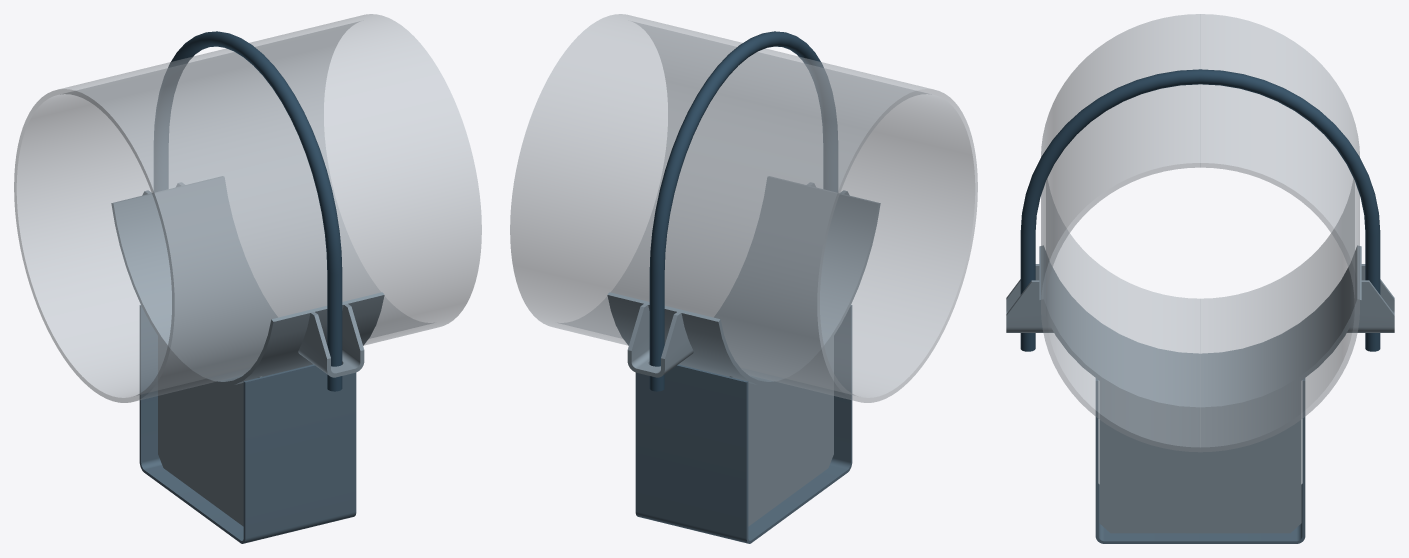
Rendered from TS-626.00.000-026-opora-dn426-H200-L170.glb.
3 renders of one model, left to right at view 1: azimuth 30°, elevation 25°; view 2: azimuth 150°, elevation 25°; view 3: azimuth 270°, elevation 25°, orthographic.
Parts seen in each view (by area): view 1: truba, podushka_3, skoba_0, rebro4_1, homut_0, ushko_5; view 2: truba, podushka_3, skoba_0, rebro4_1, homut_0, ushko_4; view 3: truba, rebro4_2, podushka_3, homut_0, skoba_0, ushko_4, ushko_5.
Boxes of the visible parts, box(x1,y1,x2,y2) form: truba: box(14, 14, 481, 402); podushka_3: box(111, 176, 384, 386); skoba_0: box(139, 305, 356, 543); rebro4_1: box(158, 336, 262, 526); homut_0: box(154, 31, 342, 391); ushko_5: box(298, 303, 364, 377); truba: box(510, 14, 977, 402); podushka_3: box(607, 176, 880, 386); skoba_0: box(635, 305, 852, 543); rebro4_1: box(729, 336, 833, 526); homut_0: box(649, 31, 837, 391); ushko_4: box(627, 303, 693, 377); truba: box(1041, 14, 1359, 452); rebro4_2: box(1099, 381, 1301, 533); podushka_3: box(1039, 245, 1361, 411); homut_0: box(1020, 69, 1380, 351); skoba_0: box(1095, 378, 1305, 543); ushko_4: box(1347, 264, 1394, 332); ushko_5: box(1006, 264, 1053, 332).
Bounding box in the file's own units: 470 × 658 × 518.
